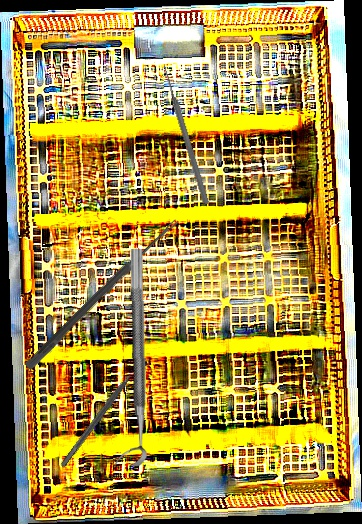Fixation Ring: (53, 350, 151, 473), (111, 249, 148, 467)
Pusher: (159, 63, 212, 206)
Surgical Spoon: (24, 216, 180, 372)
